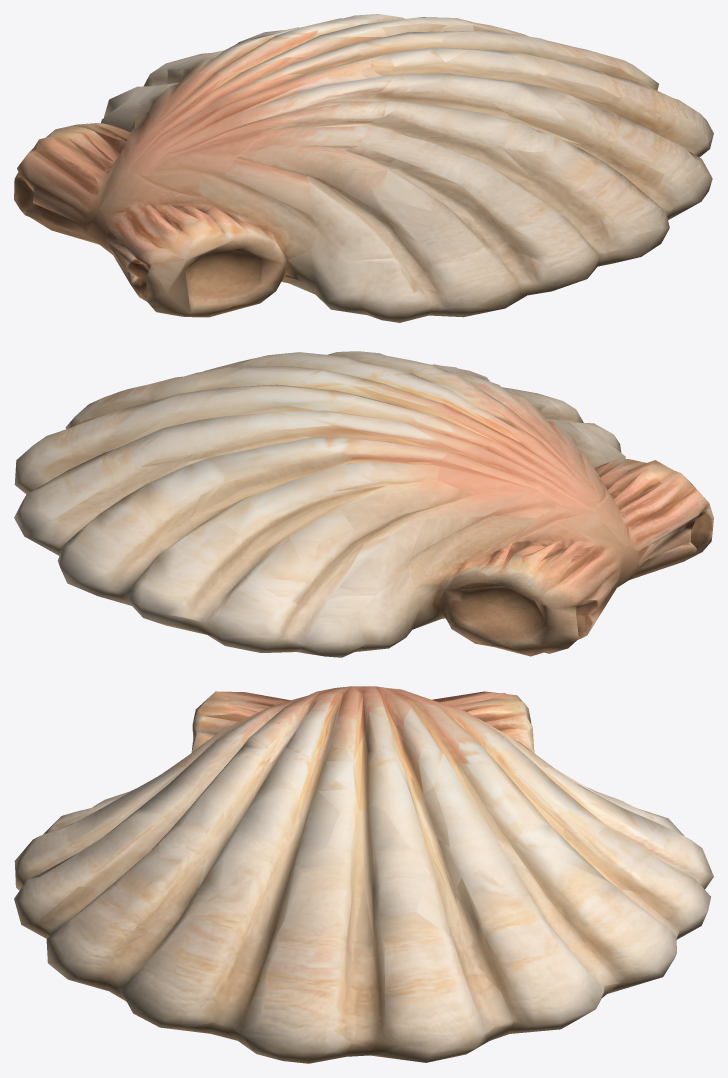
The model's file is shell-scallop-v1.glb.
The picture shows the model from 3 angles, top to bottom: view 1: azimuth 30°, elevation 25°; view 2: azimuth 150°, elevation 25°; view 3: azimuth 270°, elevation 25°; orthographic projection. The views are drawn at different scales.
Visible parts, largest first — view 1: tripo_node_4b0ef29c-12c8-4a4d-9d23-906f89a21342; view 2: tripo_node_4b0ef29c-12c8-4a4d-9d23-906f89a21342; view 3: tripo_node_4b0ef29c-12c8-4a4d-9d23-906f89a21342.
Boxes of the visible parts, <box> form: tripo_node_4b0ef29c-12c8-4a4d-9d23-906f89a21342: <box>14,14,713,322</box>; tripo_node_4b0ef29c-12c8-4a4d-9d23-906f89a21342: <box>14,351,713,657</box>; tripo_node_4b0ef29c-12c8-4a4d-9d23-906f89a21342: <box>14,686,713,1063</box>.
Size of the model in its own units: 0.2607 by 0.0653 by 0.2404.
Materials: 1 (1 with a texture image).
